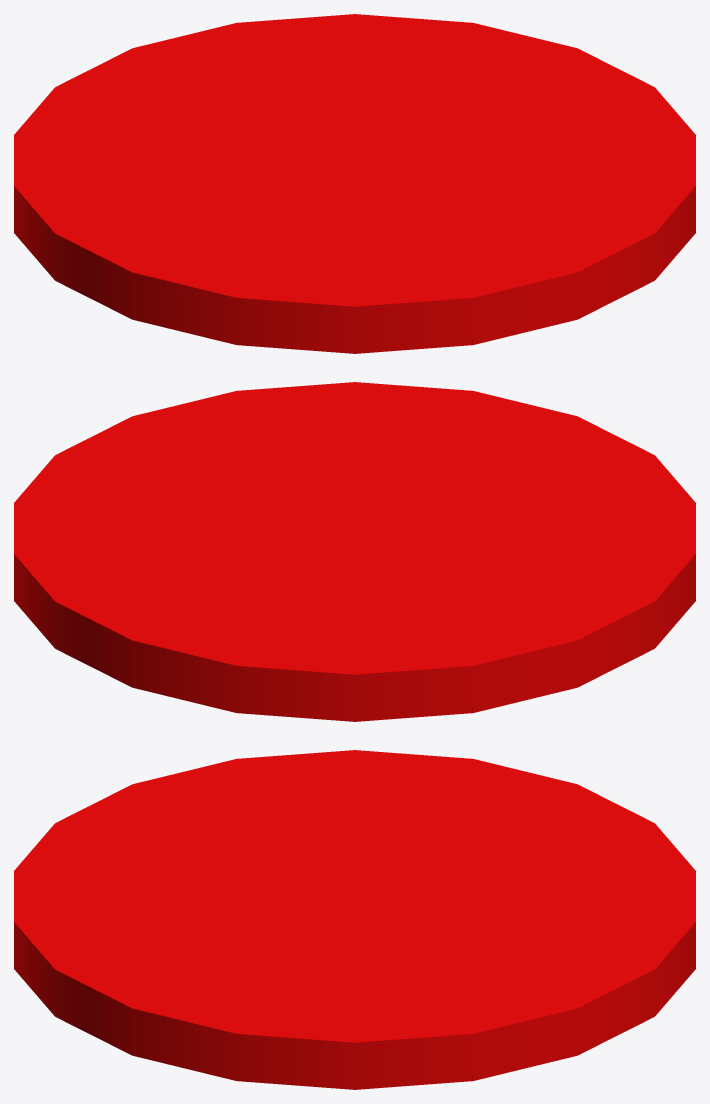
File: AttackZone.FBX
The picture shows the model from 3 angles, top to bottom: view 1: azimuth 30°, elevation 25°; view 2: azimuth 150°, elevation 25°; view 3: azimuth 270°, elevation 25°; orthographic projection.
Parts seen in each view (by area): view 1: Cylinder004; view 2: Cylinder004; view 3: Cylinder004.
Boxes of the visible parts, x1=… form: Cylinder004: x1=14, y1=14, x2=695, y2=353; Cylinder004: x1=14, y1=382, x2=695, y2=721; Cylinder004: x1=14, y1=750, x2=695, y2=1089.
Bounding box in the file's own units: 26.58 × 26.18 × 2.
